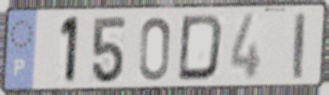0: (138, 15, 173, 83)
1: (57, 14, 82, 87)
4: (228, 11, 266, 83)
5: (90, 13, 128, 85)
D: (175, 13, 226, 84)
I: (292, 10, 308, 82)
